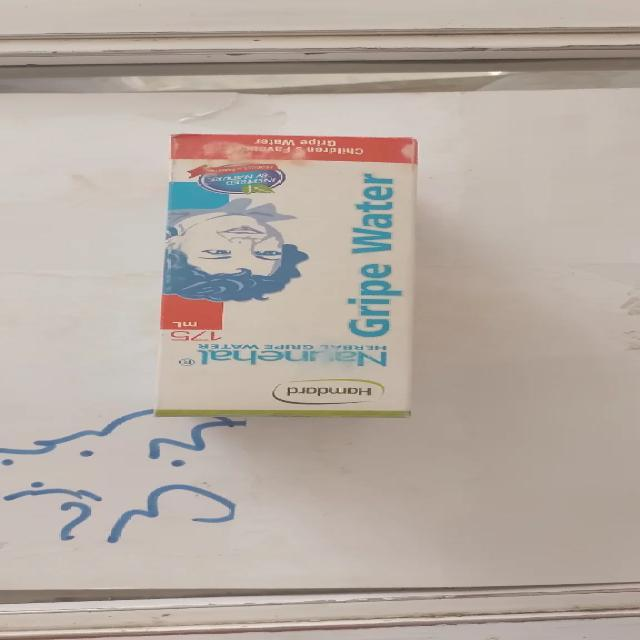drug-name: (195, 350, 390, 368)
